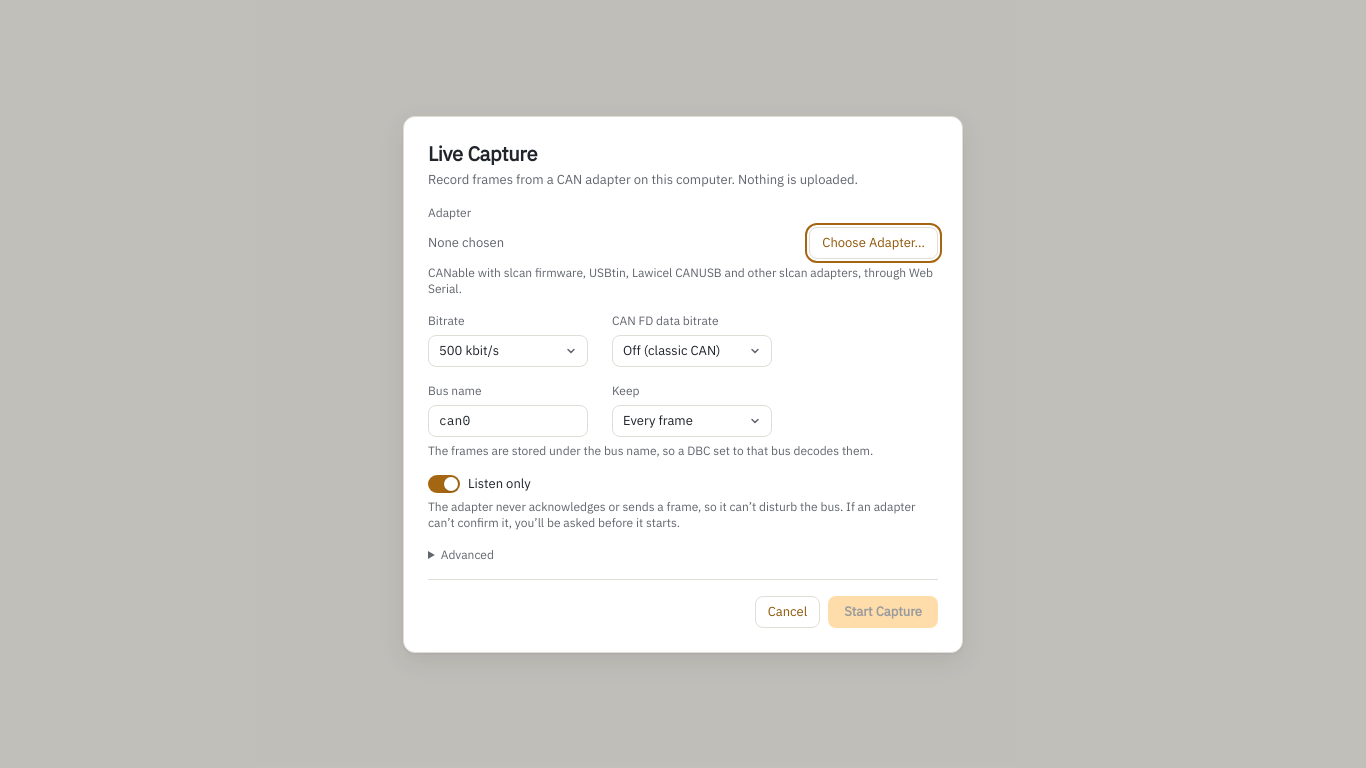
Scenario: CaptureSheet › keeps the sheet open with the reason when the adapter fails to start
The width and height of the screenshot is (1366, 768).
Click the button "Choose Adapter…" at (874, 242), box [809,226,938,258]
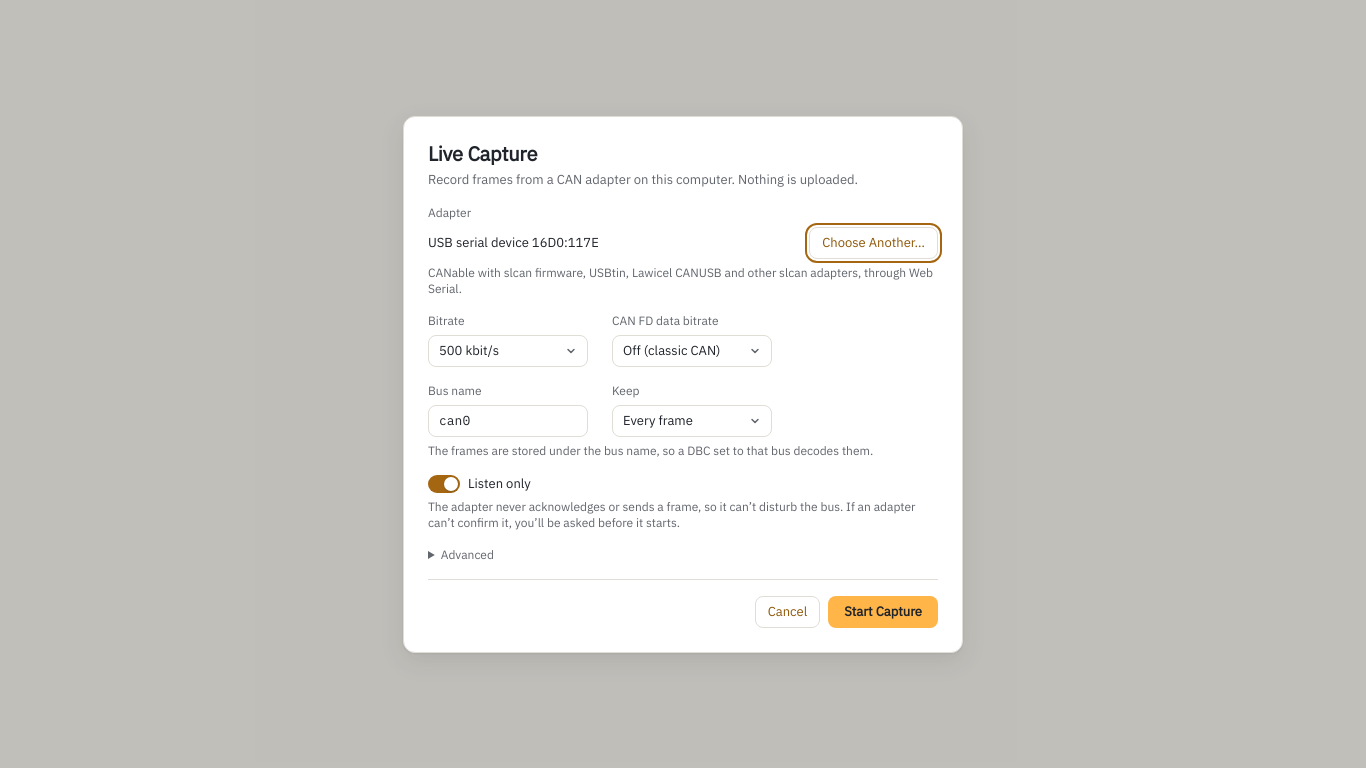
Click the button "Start Capture" at (883, 612), box [828,596,938,628]
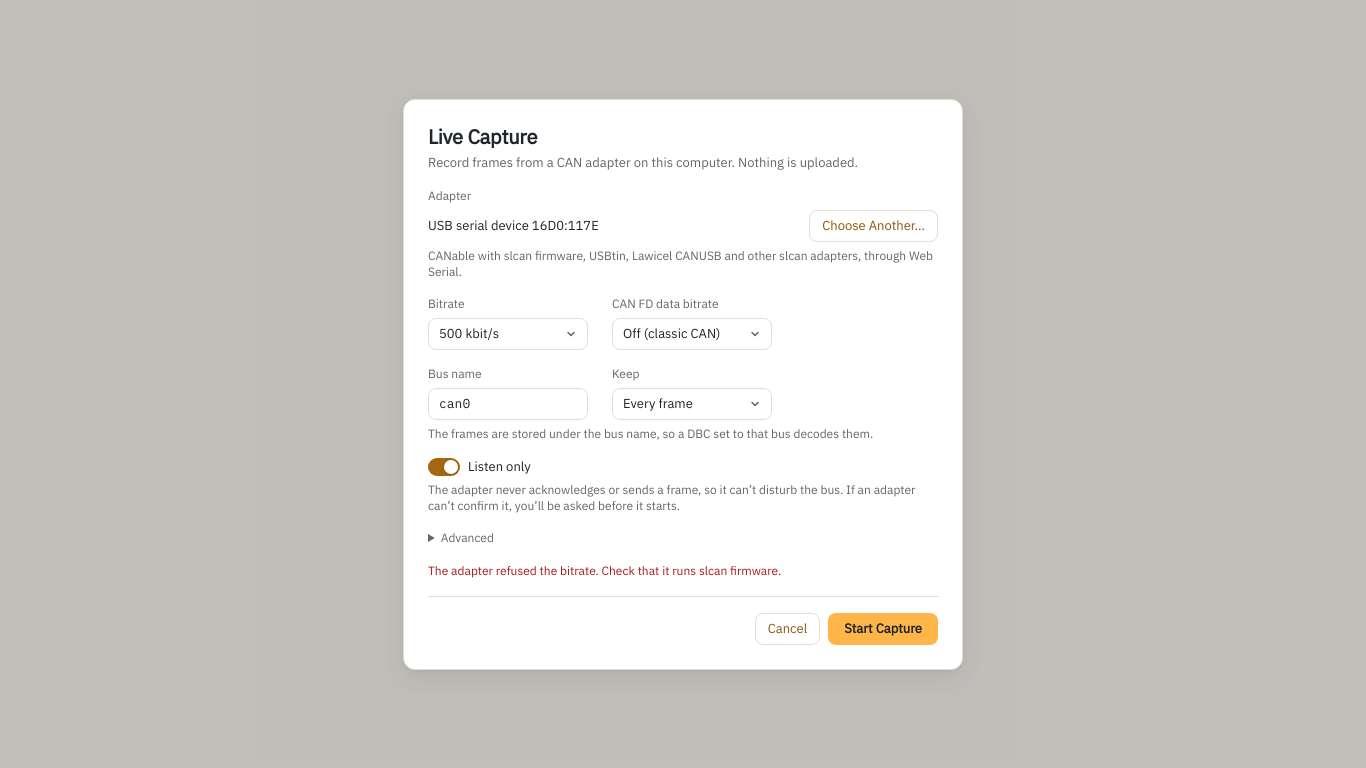
Check: the button "Start Capture" is enabled, box [828,612,938,644]
Check: the message reads "The adapter refused the bitrate. Check that it runs slcan firmware.", box [428,562,781,578]
